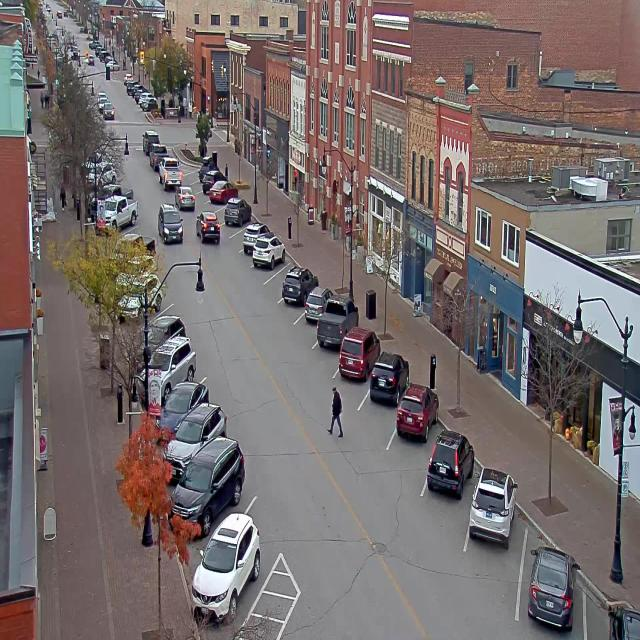available: (267, 261, 291, 294), (229, 219, 248, 254), (214, 200, 228, 228), (184, 167, 201, 184)
occupied: (169, 435, 245, 538), (190, 511, 264, 609), (527, 544, 579, 630), (468, 466, 517, 547), (154, 381, 209, 442), (426, 429, 475, 497), (393, 381, 438, 446), (176, 394, 230, 446), (151, 332, 201, 385), (592, 586, 639, 639), (369, 350, 409, 406), (316, 296, 358, 349), (338, 325, 375, 379), (282, 265, 318, 304), (252, 232, 285, 270), (303, 283, 327, 323), (224, 196, 251, 227), (210, 180, 236, 206), (196, 158, 220, 182), (200, 169, 225, 192), (243, 224, 258, 255)
